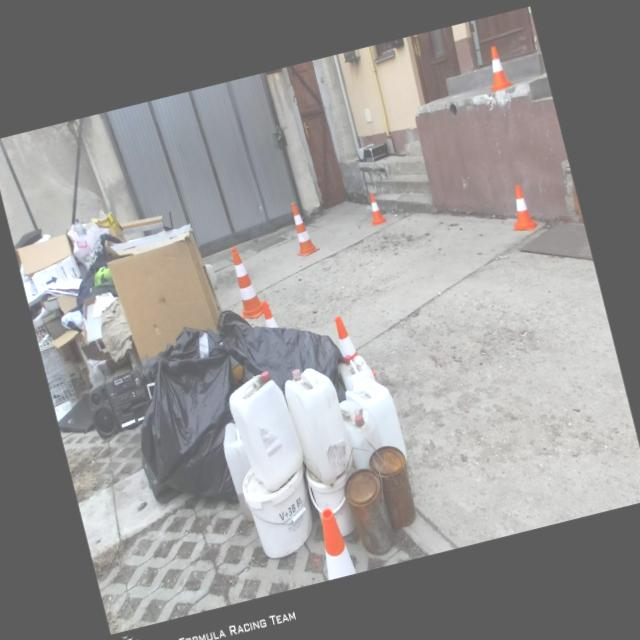large_orange_cone: (223, 242, 270, 320), (312, 504, 356, 580), (284, 199, 320, 258)
orange_cone: (327, 310, 377, 382), (502, 182, 538, 234), (479, 44, 512, 91), (365, 191, 386, 224), (260, 300, 278, 330)
